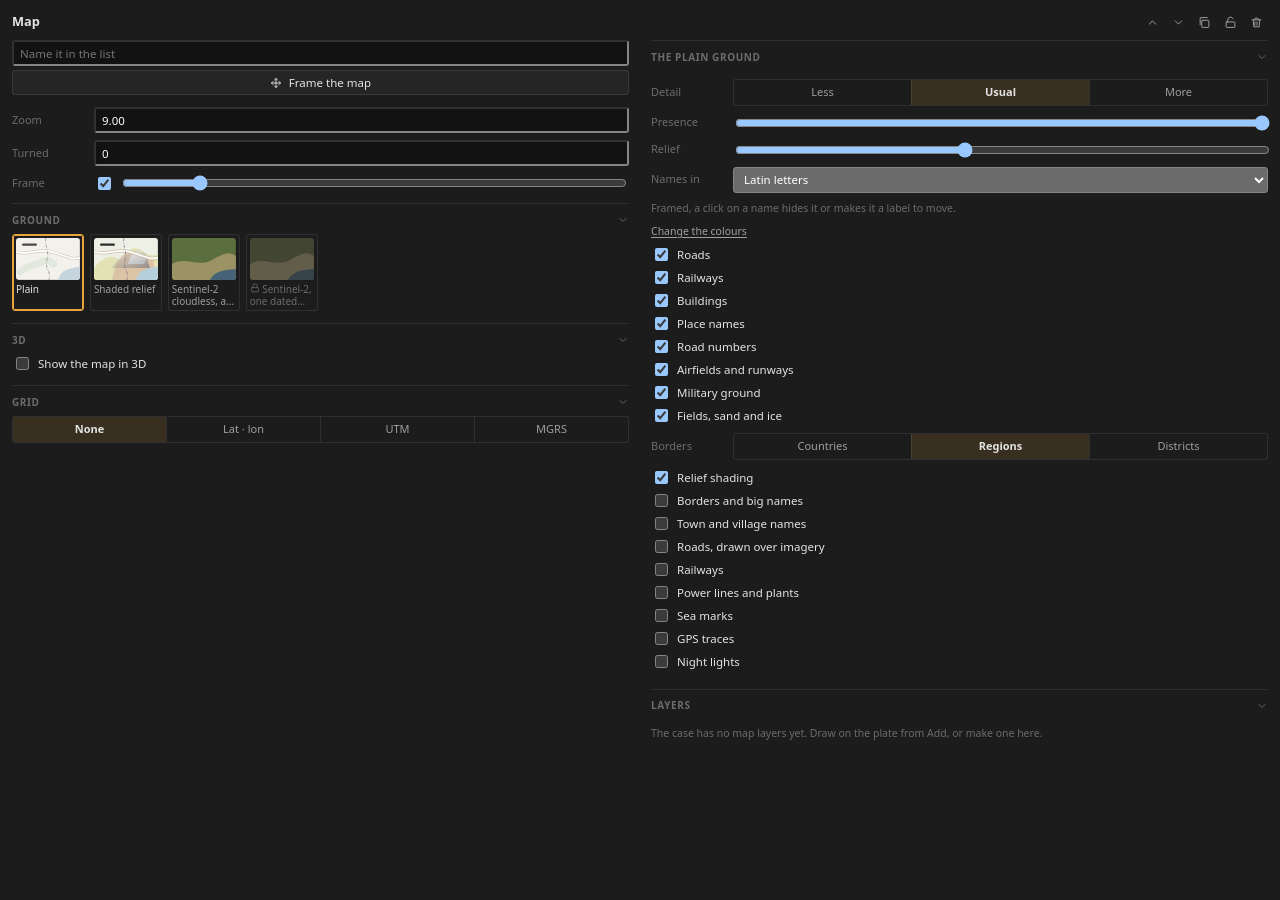
Test: the ground, the type and the layers of a plate › picks a ground from its tiles, and a year of Sentinel-2 cloudless with its licence
The image size is (1280, 900).
Step 1. Click the radio button with class "ground-tile" showing "Shaded relief" → point(126, 273), box [90,234,162,311]
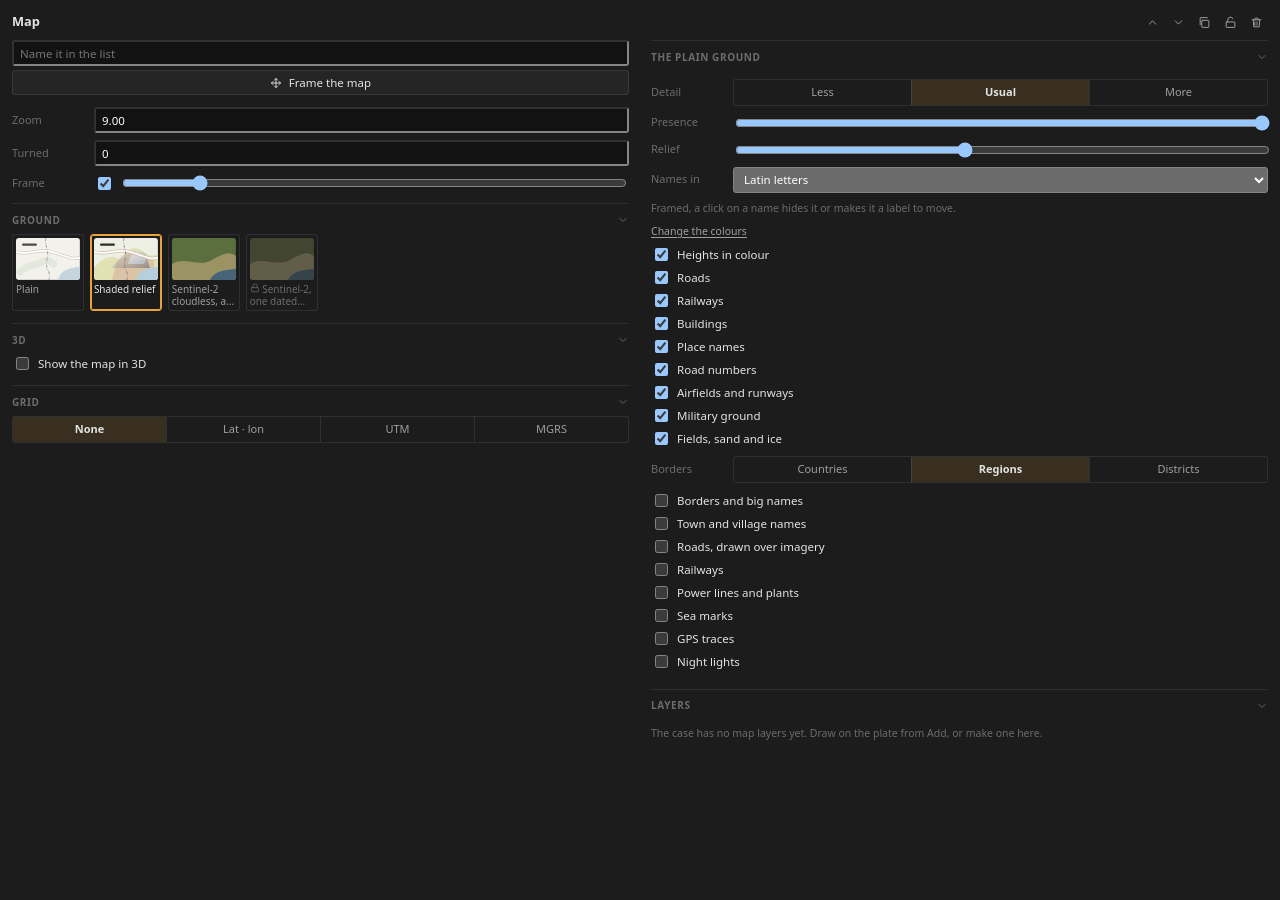
Expected: the slider named "Relief strength" is shown, [735,142,1270,158]
Step 2. Click the radio button with class "ground-tile" that starts with "Sentinel-2 cloudless, a year's mosaic" → point(204, 273), box [168,234,240,311]
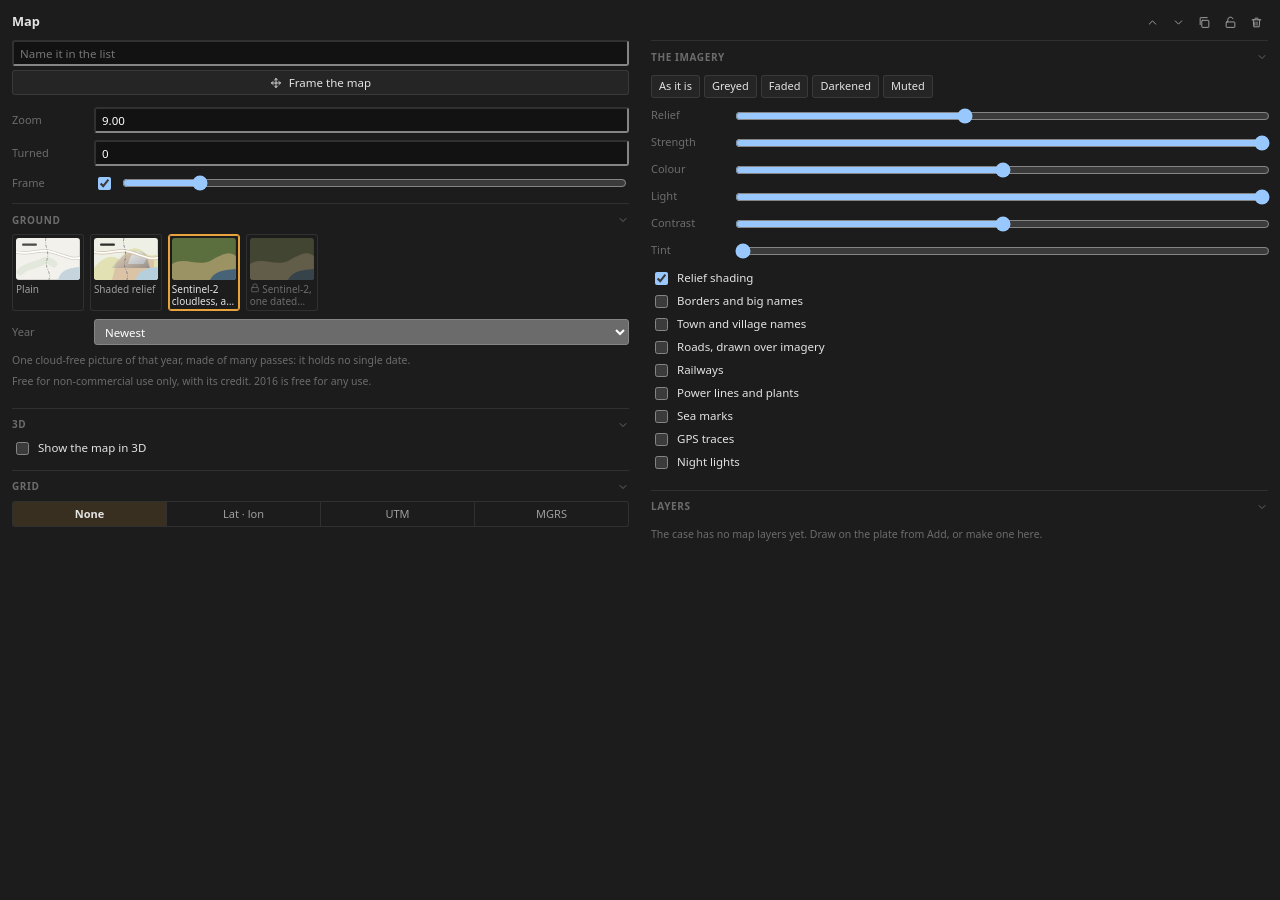
Expected: the text "Free for non-commercial use only" is shown, [12,374,371,388]
Step 3. Select "2016, free for any use" in the dropdown named "Cloudless year" → point(362, 332), box [94,319,629,345]
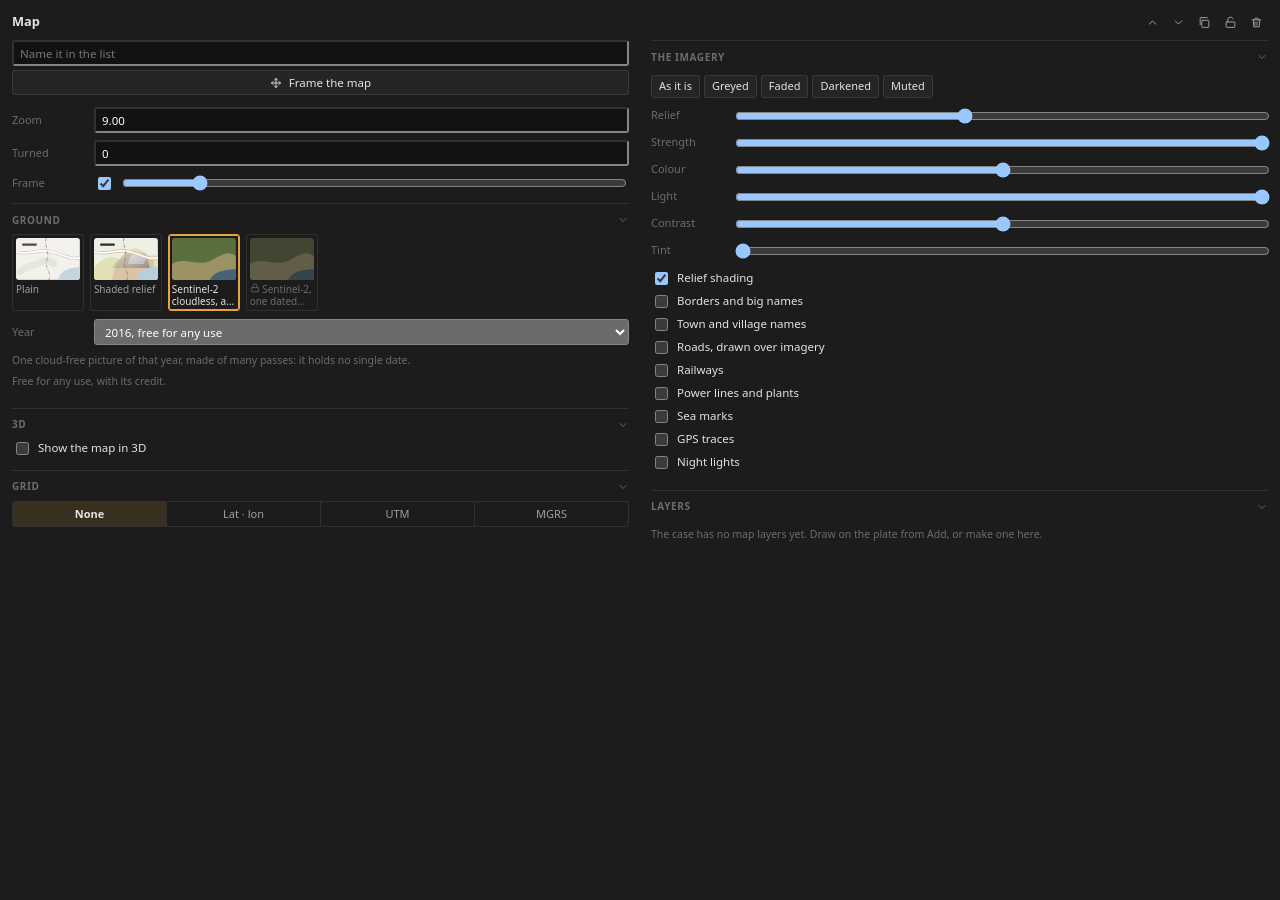
Expected: the text "Free for any use, with its credit." is shown, [12,374,166,388]
